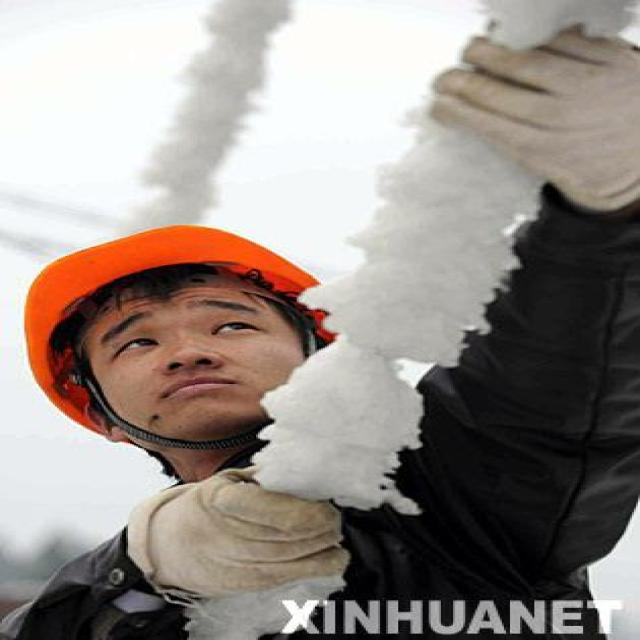helmet: (3, 219, 327, 325)
